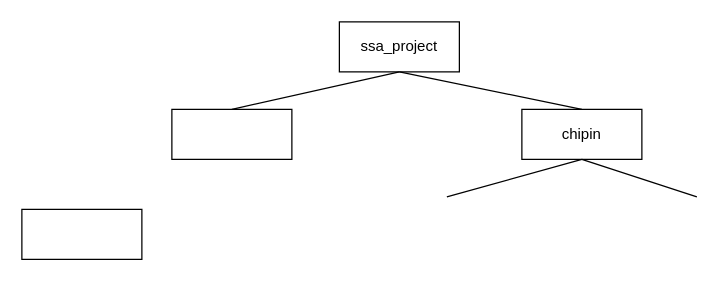
Some shapes in this 720 by 281 pixel diagram are drawn without their labels. Each missing label, with the centre of its shape:
login: point (81, 233)
users: point (231, 133)
